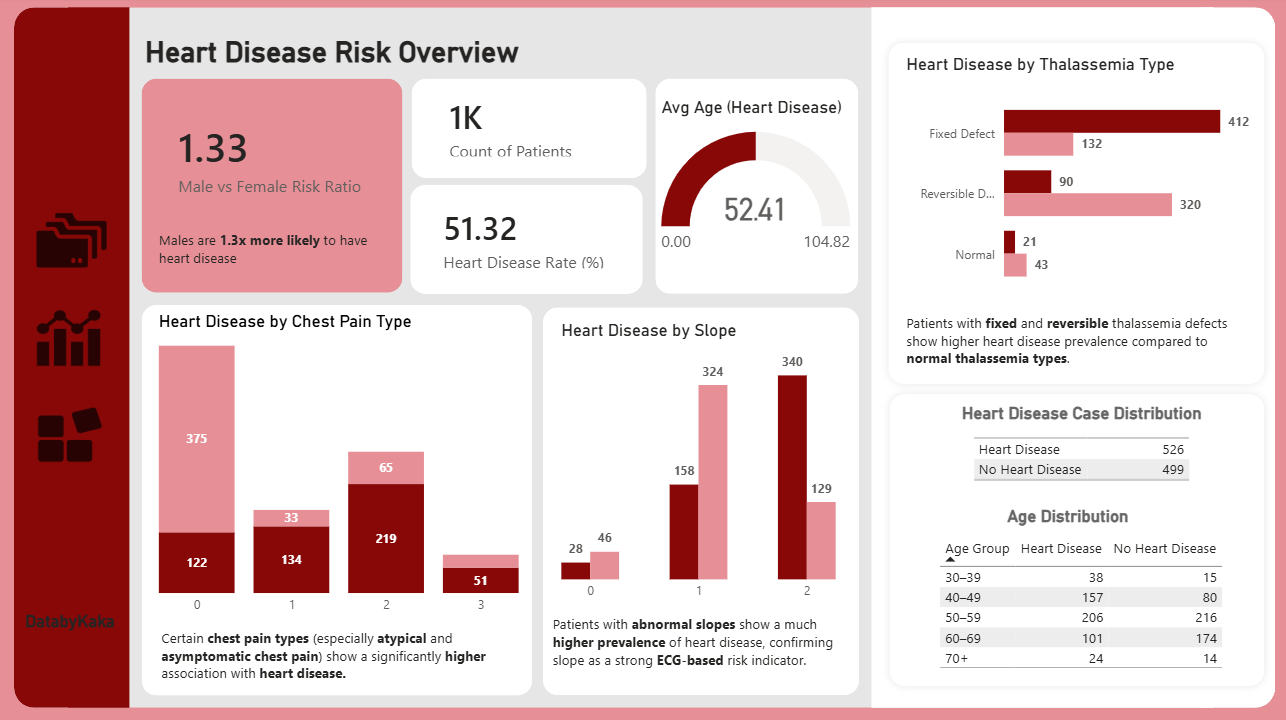

The page's visual inventory and layout, read from the dashboard file:
{"tool":"powerbi","page":{"name":"Overview ","canvas":[1280,720],"ordinal":0},"visuals":[{"type":"group","id":"g1","title":"Background ","box":[0,0,1280.3,720.4],"z":0},{"type":"shape","title":"Background 1","box":[0,0,1280.3,720.4],"z":0,"group":"g1"},{"type":"shape","box":[15.3,11.1,71,695.7],"z":0,"group":"g2"},{"type":"shape","box":[1176.8,11.1,90.7,695.7],"z":0,"group":"g4"},{"type":"shape","box":[874.7,38.5,389.6,354.8],"z":0,"group":"g5"},{"type":"shape","box":[141.1,82.3,259.2,212.8],"z":0,"group":"g7"},{"type":"shape","box":[540,308.9,314.2,385.4],"z":0,"group":"g6"},{"type":"shape","title":"Background 2","box":[15.3,11.1,1252.2,695.7],"z":1000,"group":"g1"},{"type":"group","id":"g2","title":"Left bar","box":[15.3,11.1,114.1,695.7],"z":1000},{"type":"shape","box":[68.2,11.1,61.2,695.7],"z":1000,"group":"g2"},{"type":"shape","box":[866.8,11.1,339.8,695.7],"z":1000,"group":"g4"},{"type":"shape","box":[408.1,187.7,231,108.5],"z":1000,"group":"g7"},{"type":"shape","box":[141.2,306.3,388.2,388.2],"z":1000,"group":"g6"},{"type":"shape","box":[876.1,387.7,388.2,306.1],"z":1000,"group":"g5"},{"type":"shape","box":[408.8,82.2,233.6,99],"z":2000,"group":"g7"},{"type":"group","id":"g3","title":"Navigation button ","box":[36.2,210.1,71,254.6],"z":2000},{"type":"group","id":"g4","title":"Right bar","box":[866.8,11.1,400.7,695.7],"z":3000},{"type":"shape","box":[650.9,82.3,201.8,214],"z":3000,"group":"g7"},{"type":"group","id":"g5","title":"right data","box":[874.7,38.5,389.6,655.3],"z":4000},{"type":"group","id":"g6","title":"Middle data ","box":[141.2,306.3,713.1,388.2],"z":5000},{"type":"group","id":"g7","title":"KPI","box":[141.1,82.2,711.6,214.1],"z":6000},{"type":"textbox","box":[140.5,33.4,456.3,47.3],"z":7000},{"type":"actionButton","box":[37.6,210.1,69.6,65.4],"z":7000,"group":"g3"},{"type":"clusteredBarChart","title":"Heart Disease by Thalassemia Type","fields":{"Y":["health_heart_clean.Total Patients"],"Category":["health_heart_clean.Thalassemia Type"],"Series":["health_heart_clean.Disease Status"]},"box":[896,57,357.6,253.2],"z":8000},{"type":"actionButton","box":[36.2,310.3,66.8,58.4],"z":8000,"group":"g3"},{"type":"columnChart","title":"Heart Disease by Chest Pain Type","fields":{"Category":["health_heart_clean.cp"],"Y":["health_heart_clean.Total Patients"],"Series":["health_heart_clean.Disease Status"]},"box":[154.4,313,367.3,310.3],"z":9000},{"type":"actionButton","box":[37.6,407.7,66.8,57],"z":9000,"group":"g3"},{"type":"cardVisual","fields":{"Data":["health_heart_clean.Total Patients"]},"box":[418.2,84.4,212.8,92.9],"z":10000},{"type":"cardVisual","fields":{"Data":["health_heart_clean.Heart Disease Rate (%)"]},"box":[411.8,193.4,224,94.6],"z":11000},{"type":"gauge","title":"Avg Age (Heart Disease)","fields":{"Y":["health_heart_clean.Average Age (Heart Disease)"]},"box":[652.5,100.2,197.6,175.3],"z":12000},{"type":"cardVisual","fields":{"Data":["health_heart_clean.Male vs Female Risk Ratio"]},"box":[149.2,89.3,244.6,141.8],"z":13000},{"type":"textbox","box":[154.4,228.2,239.3,59.8],"z":14000},{"type":"clusteredColumnChart","title":"Heart Disease by Slope","fields":{"Category":["health_heart_clean.slope"],"Y":["health_heart_clean.Total Patients"],"Series":["health_heart_clean.Disease Status"]},"box":[553.7,321.4,282.4,288],"z":15000},{"type":"textbox","box":[155.8,623.3,353.4,68.2],"z":16000},{"type":"textbox","box":[545.4,609.4,304.7,82.1],"z":17000},{"type":"textbox","box":[896.3,310.6,355.8,68.5],"z":18000},{"type":"tableEx","fields":{"Values":["health_heart_clean.Disease Status","CountNonNull(health_heart_clean.target)"]},"box":[962.4,404.8,229.9,83.2],"z":19000},{"type":"pivotTable","fields":{"Values":["health_heart_clean.Heart Disease","health_heart_clean.No Heart Disease"],"Rows":["health_heart_clean.Age Group"]},"box":[929.4,532.9,297.7,146.1],"z":20000},{"type":"textbox","box":[909.8,399.9,335.1,45.2],"z":21000},{"type":"textbox","box":[929.4,501.4,267.8,33],"z":22000},{"type":"textbox","box":[21.7,605.9,101.2,44.8],"z":22001}]}

Visuals, with their boxes in screenshot pixels (x1, y1, x2, y2), scaled from the page's 1280x720 canvas onto the 1286x720 screenshot:
"Background " group: locate(0, 0, 1285, 719)
"Background 1" shape: locate(0, 0, 1285, 719)
shape: locate(15, 11, 87, 707)
shape: locate(1182, 11, 1273, 707)
shape: locate(879, 38, 1270, 393)
shape: locate(142, 82, 402, 295)
shape: locate(543, 309, 858, 694)
"Background 2" shape: locate(15, 11, 1273, 707)
"Left bar" group: locate(15, 11, 130, 707)
shape: locate(69, 11, 130, 707)
shape: locate(871, 11, 1212, 707)
shape: locate(410, 188, 642, 296)
shape: locate(142, 306, 532, 694)
shape: locate(880, 388, 1270, 694)
shape: locate(411, 82, 645, 181)
"Navigation button " group: locate(36, 210, 108, 465)
"Right bar" group: locate(871, 11, 1273, 707)
shape: locate(654, 82, 857, 296)
"right data" group: locate(879, 38, 1270, 694)
"Middle data " group: locate(142, 306, 858, 694)
"KPI" group: locate(142, 82, 857, 296)
textbox: locate(141, 33, 600, 81)
actionButton: locate(38, 210, 108, 276)
"Heart Disease by Thalassemia Type" clusteredBarChart: locate(900, 57, 1259, 310)
actionButton: locate(36, 310, 103, 369)
"Heart Disease by Chest Pain Type" columnChart: locate(155, 313, 524, 623)
actionButton: locate(38, 408, 105, 465)
cardVisual - health_heart_clean.Total Patients: locate(420, 84, 634, 177)
cardVisual - health_heart_clean.Heart Disease Rate (%): locate(414, 193, 639, 288)
"Avg Age (Heart Disease)" gauge: locate(656, 100, 854, 276)
cardVisual - health_heart_clean.Male vs Female Risk Ratio: locate(150, 89, 396, 231)
textbox: locate(155, 228, 396, 288)
"Heart Disease by Slope" clusteredColumnChart: locate(556, 321, 840, 609)
textbox: locate(157, 623, 512, 692)
textbox: locate(548, 609, 854, 692)
textbox: locate(901, 311, 1258, 379)
tableEx - health_heart_clean.Disease Status x CountNonNull(health_heart_clean.target): locate(967, 405, 1198, 488)
pivotTable - health_heart_clean.Heart Disease x health_heart_clean.No Heart Disease: locate(934, 533, 1233, 679)
textbox: locate(914, 400, 1251, 445)
textbox: locate(934, 501, 1203, 534)
textbox: locate(22, 606, 123, 651)
